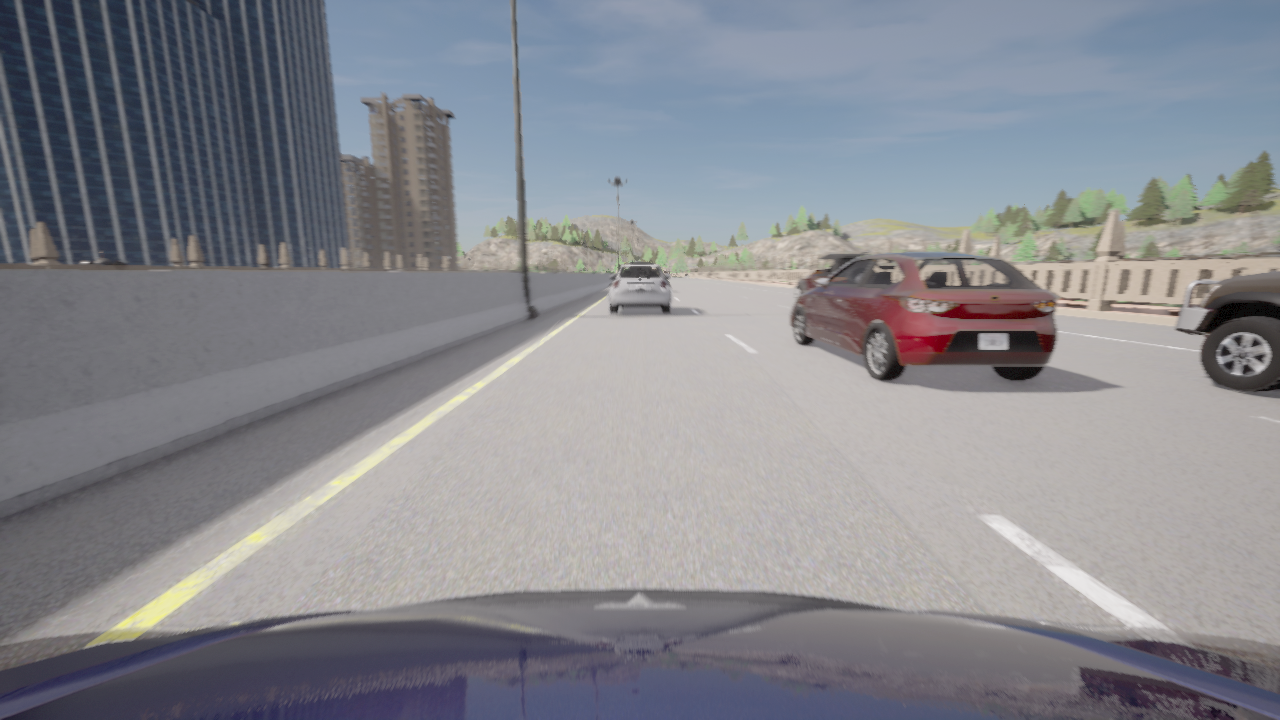cyclist: (0, 588, 1279, 719), (789, 252, 1058, 380), (1175, 271, 1279, 392), (794, 253, 871, 299), (608, 264, 671, 314)
